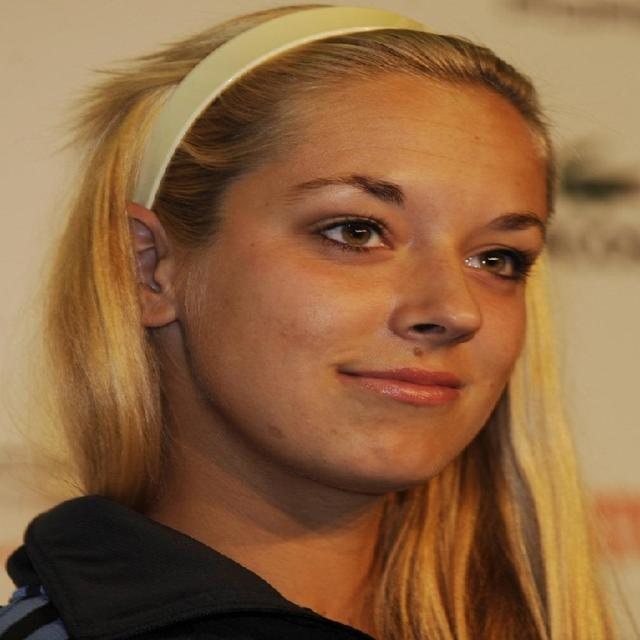Face: (184, 63, 583, 498)
